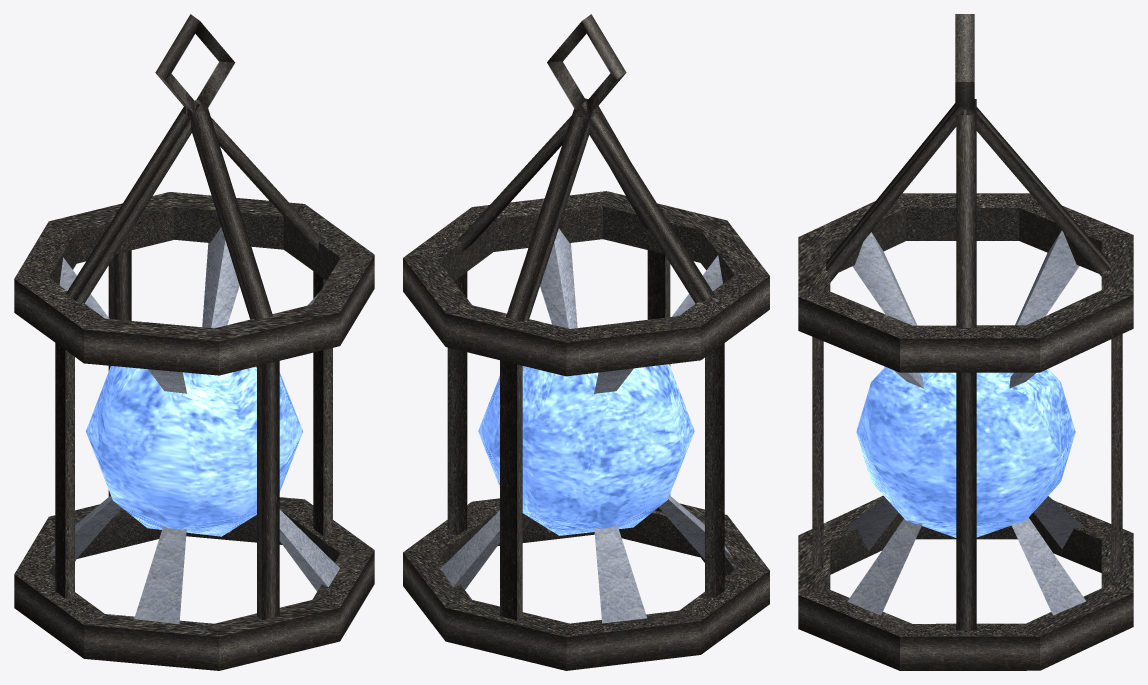
Rendered from mm9_deco_terrorlight1.glb.
3 renders of one model, left to right at view 1: azimuth 30°, elevation 25°; view 2: azimuth 150°, elevation 25°; view 3: azimuth 270°, elevation 25°, orthographic.
Visible parts, largest first — view 1: Terrorlight1; view 2: Terrorlight1; view 3: Terrorlight1.
Boxes of the visible parts, x1,y1,x2,y2 form: Terrorlight1: [14, 14, 374, 670]; Terrorlight1: [403, 14, 769, 670]; Terrorlight1: [798, 14, 1133, 670].
Size of the model in its own units: 0.4071 by 0.7629 by 0.3965.
Materials: 3 (3 with a texture image).
